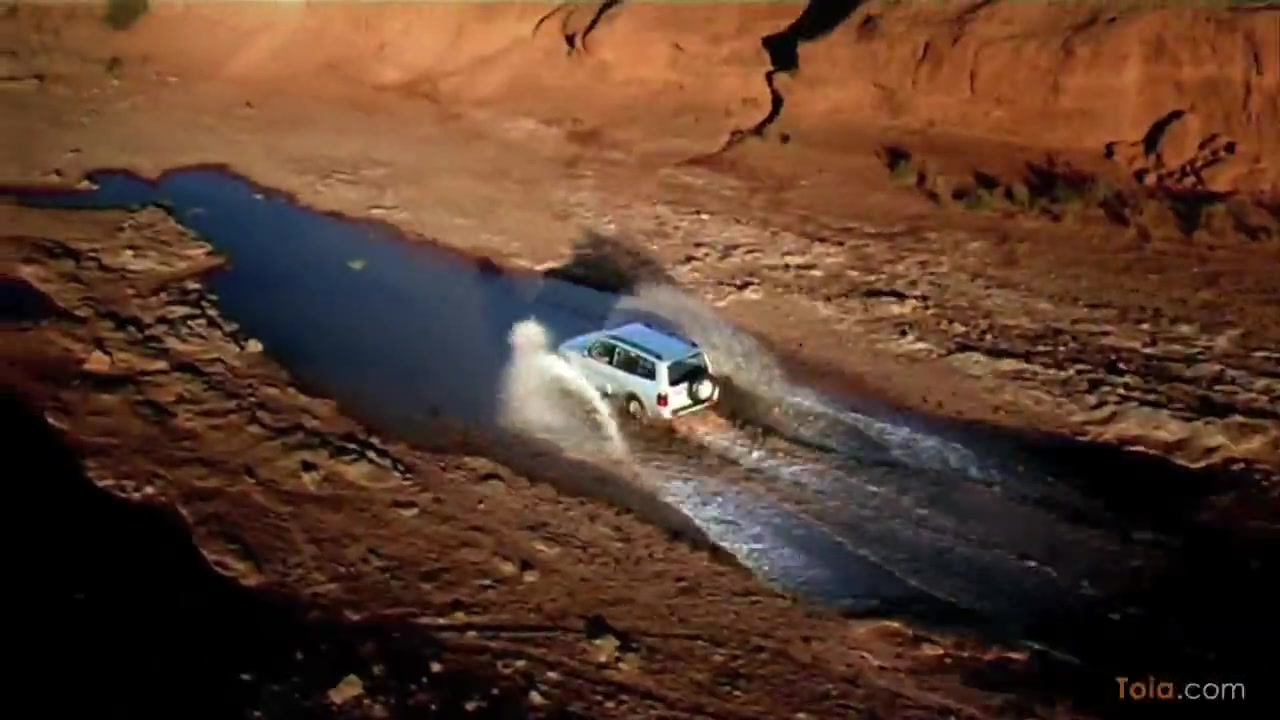car: (557, 322, 728, 432)
